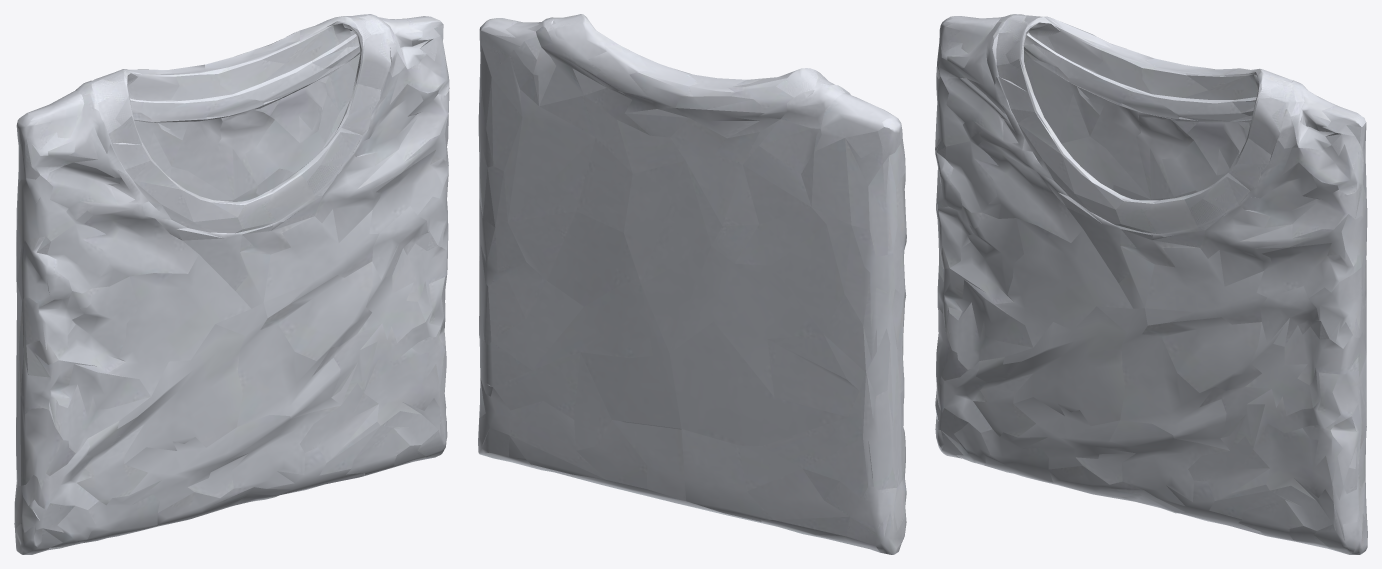
The model's file is w3shirt.glb.
The picture shows the model from 3 angles, left to right: view 1: azimuth 30°, elevation 25°; view 2: azimuth 150°, elevation 25°; view 3: azimuth 330°, elevation 25°; orthographic projection.
Visible parts, largest first — view 1: output_unwrapped; view 2: output_unwrapped; view 3: output_unwrapped.
Part boxes in pixels (x1,y1,x2,y2): output_unwrapped: (14, 14, 449, 554); output_unwrapped: (478, 14, 906, 554); output_unwrapped: (935, 14, 1367, 554).
Bounding box in the file's own units: 0.3 × 0.3119 × 0.049.
1 material, 1 textured.
